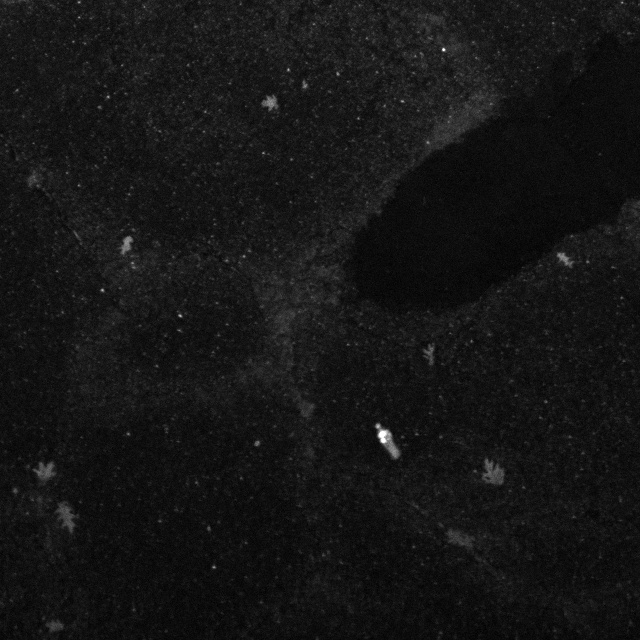bottle: (361, 421, 404, 471)
